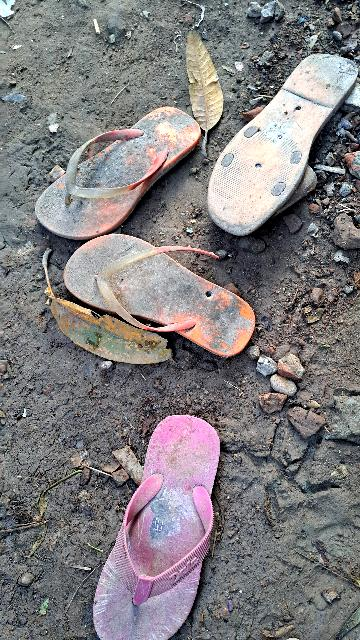sandal: (47, 206, 284, 393), (183, 23, 360, 251), (81, 404, 234, 640), (25, 73, 211, 260)
